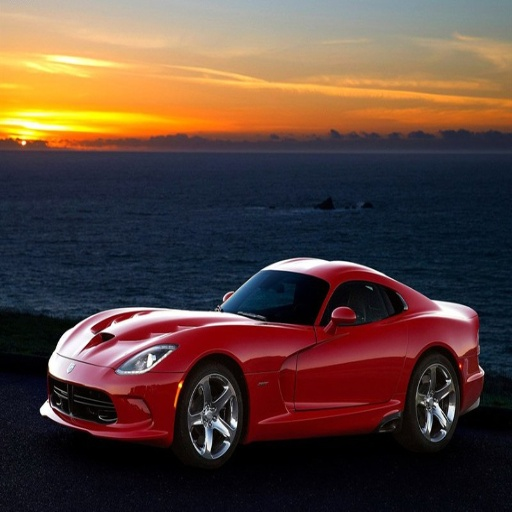back_left_door: (360, 273, 412, 399)
front_bumper: (45, 357, 172, 441)
front_glass: (225, 270, 322, 319)
front_left_door: (295, 274, 380, 411)
